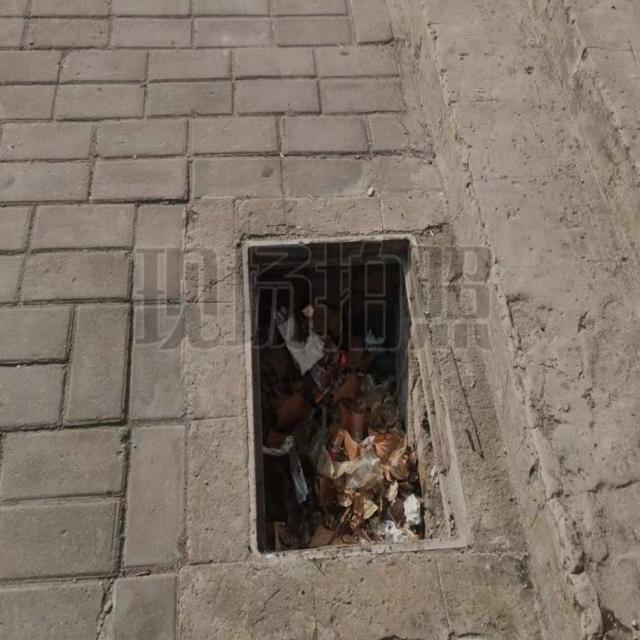lose: (240, 226, 476, 560)
